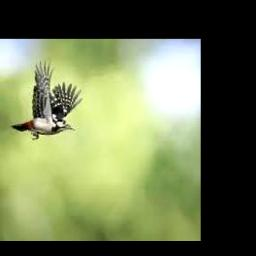Woodpecker: (12, 58, 83, 140)
